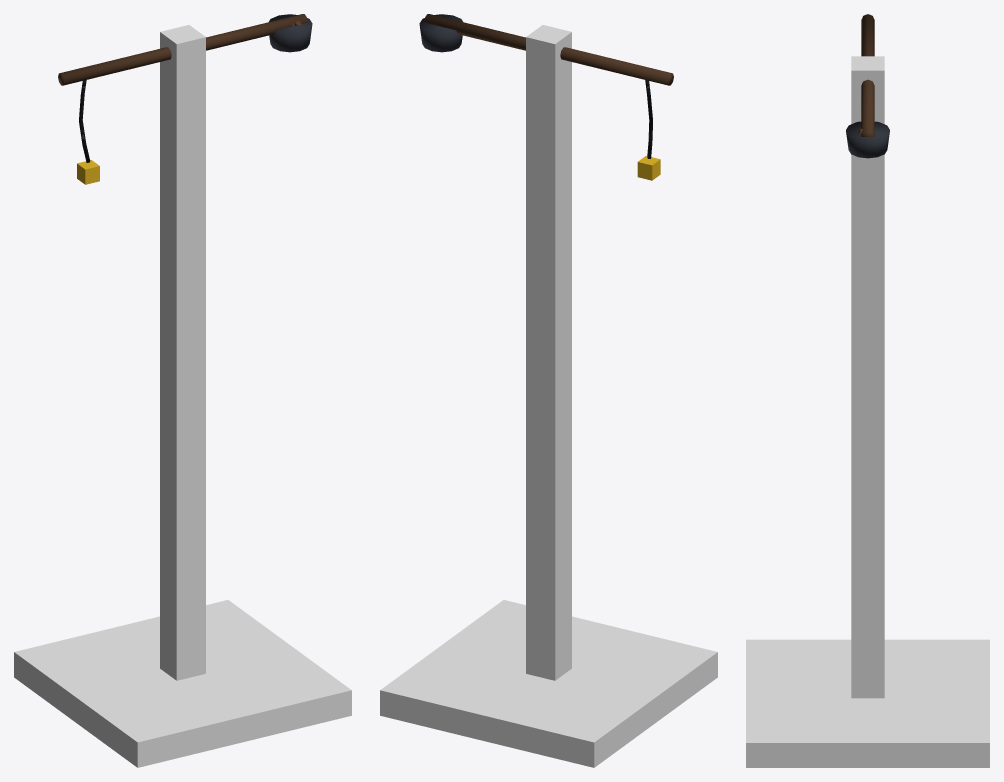
The model's file is Furn_ParrotPerch.001.gltf.
3 views of the same model, side by side, from view 1: azimuth 30°, elevation 25°; view 2: azimuth 150°, elevation 25°; view 3: azimuth 270°, elevation 25° (orthographic).
Visible parts, largest first — view 1: Furn_ParrotPerch.001_COL, Furn_ParrotPerch.001_COL1, Furn_ParrotPerch.001; view 2: Furn_ParrotPerch.001_COL, Furn_ParrotPerch.001_COL1, Furn_ParrotPerch.001; view 3: Furn_ParrotPerch.001_COL, Furn_ParrotPerch.001_COL1, Furn_ParrotPerch.001.
Boxes of the visible parts, x1=… form: Furn_ParrotPerch.001_COL: x1=14, y1=600, x2=351, y2=767; Furn_ParrotPerch.001_COL1: x1=160, y1=25, x2=205, y2=680; Furn_ParrotPerch.001: x1=58, y1=14, x2=312, y2=184; Furn_ParrotPerch.001_COL: x1=380, y1=600, x2=717, y2=767; Furn_ParrotPerch.001_COL1: x1=526, y1=25, x2=571, y2=680; Furn_ParrotPerch.001: x1=419, y1=14, x2=673, y2=180; Furn_ParrotPerch.001_COL: x1=746, y1=639, x2=989, y2=767; Furn_ParrotPerch.001_COL1: x1=851, y1=56, x2=884, y2=698; Furn_ParrotPerch.001: x1=846, y1=14, x2=889, y2=158.
Size of the model in its own units: 0.51 by 1.3 by 0.44.
Materials: 6 (1 with a texture image).
